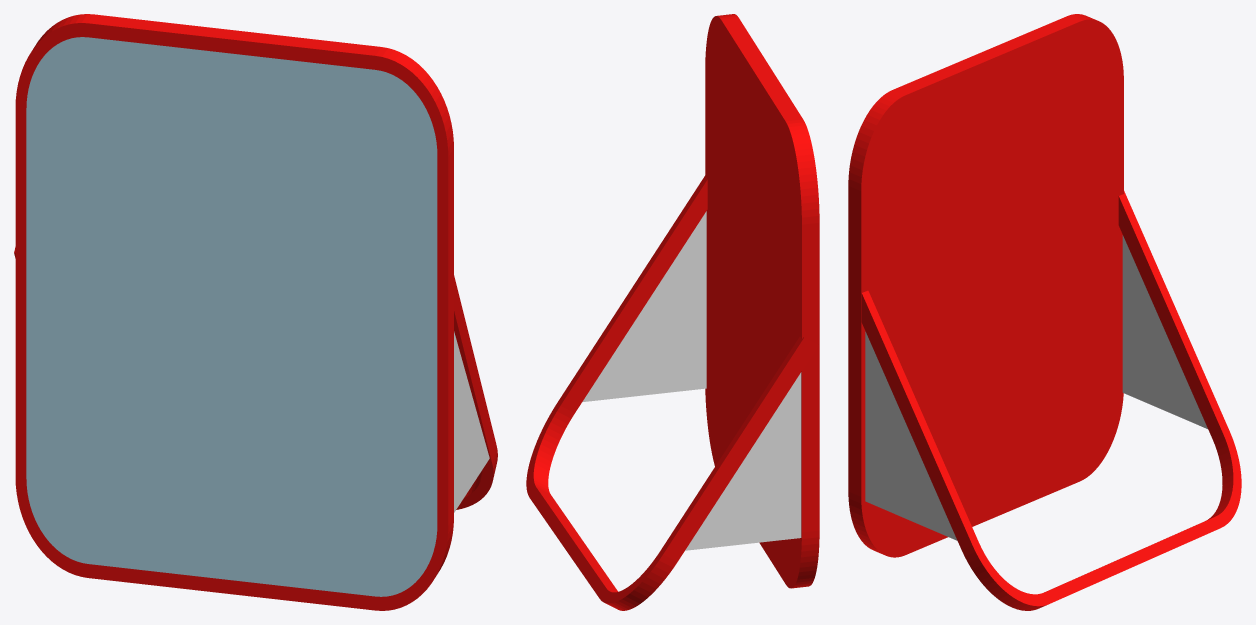
Rendered from deflectorR1.obj.
3 renders of one model, left to right at view 1: azimuth 30°, elevation 25°; view 2: azimuth 150°, elevation 25°; view 3: azimuth 270°, elevation 25°, orthographic. The views are drawn at different scales.
Parts seen in each view (by area): view 1: deflectorR1.001_Куб.067; view 2: deflectorR1.001_Куб.067; view 3: deflectorR1.001_Куб.067.
Boxes of the visible parts, bbox=[...] form: deflectorR1.001_Куб.067: bbox=[14, 14, 497, 610]; deflectorR1.001_Куб.067: bbox=[526, 14, 819, 610]; deflectorR1.001_Куб.067: bbox=[848, 14, 1241, 610].
Bounding box in the file's own units: 0.1521 × 0.1973 × 0.1529.
